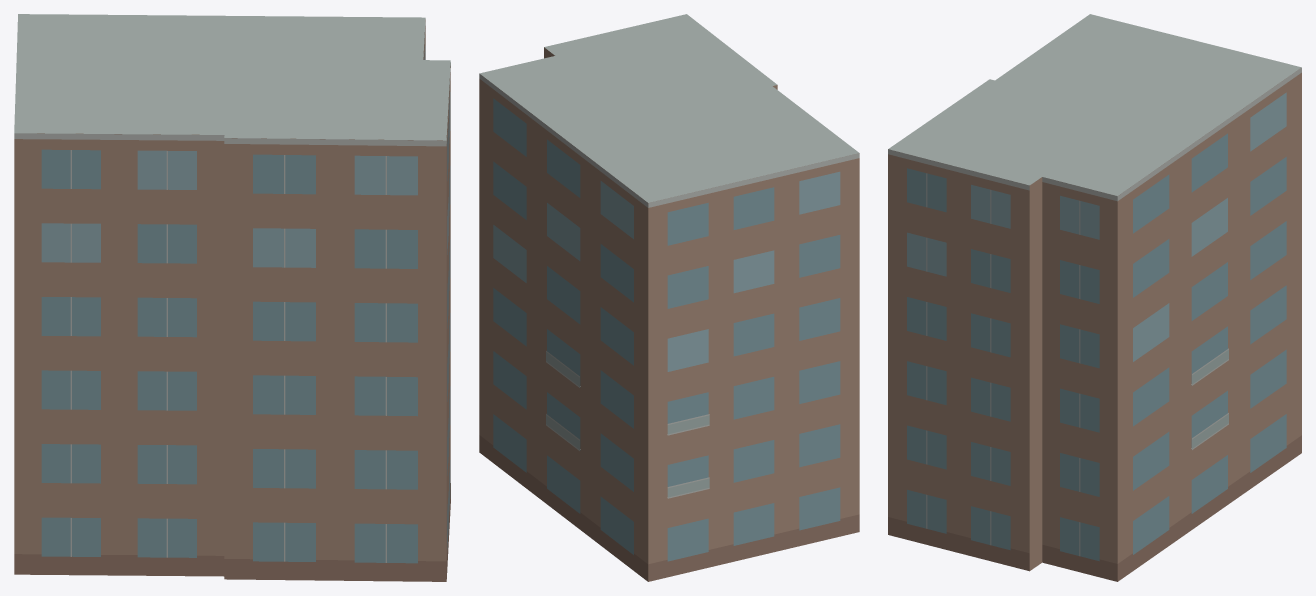
The model's file is survey-upis-32767362.glb.
3 views of the same model, side by side, from view 1: azimuth 30°, elevation 25°; view 2: azimuth 150°, elevation 25°; view 3: azimuth 270°, elevation 25° (orthographic). The views are drawn at different scales.
Visible parts, largest first — view 1: survey-upis-32767362.tmp; view 2: survey-upis-32767362.tmp; view 3: survey-upis-32767362.tmp.
Part boxes in pixels (x1,y1,x2,y2): survey-upis-32767362.tmp: (14,14,450,581); survey-upis-32767362.tmp: (479,14,859,581); survey-upis-32767362.tmp: (888,14,1301,581).
Bounding box in the file's own units: 18.54 × 18.3 × 17.8.
